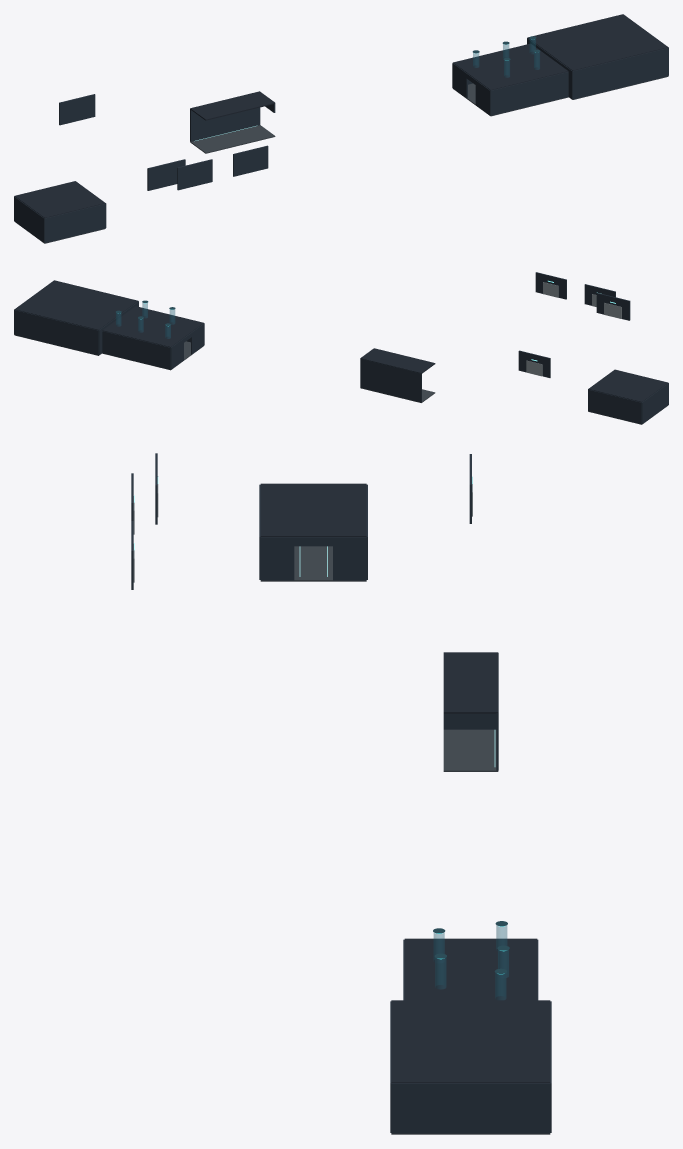
File: aquarium_continuous_shell.glb
3 renders of one model, top to bottom at view 1: azimuth 30°, elevation 25°; view 2: azimuth 150°, elevation 25°; view 3: azimuth 270°, elevation 25°, orthographic. The views are drawn at different scales.
Parts seen in each view (by area): view 1: DarkWall, Ceiling, Floor, TankWaterJellyCylinder; view 2: DarkWall, Ceiling, Door, Floor, TankWaterJellyCylinder; view 3: Ceiling, DarkWall, Floor, TankWaterJellyCylinder.
Part boxes in pixels (box(x1,y1,x2,y2)): DarkWall: box(14, 38, 668, 242); Ceiling: box(14, 14, 668, 218); Floor: box(15, 76, 668, 243); TankWaterJellyCylinder: box(473, 39, 539, 76); DarkWall: box(14, 272, 668, 424); Ceiling: box(14, 280, 667, 402); Door: box(526, 282, 621, 376); Floor: box(14, 335, 667, 424); TankWaterJellyCylinder: box(116, 303, 174, 338); Ceiling: box(260, 483, 550, 1083); DarkWall: box(131, 453, 551, 1133); Floor: box(260, 546, 550, 1134); TankWaterJellyCylinder: box(434, 925, 508, 999).
Bounding box in the file's own units: 152 × 22.08 × 47.58.
